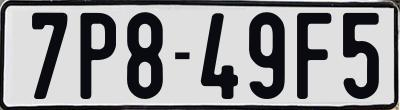4: (198, 10, 239, 100)
5: (340, 11, 377, 101)
7: (32, 12, 70, 100)
8: (124, 10, 164, 99)
9: (249, 9, 286, 96)
F: (297, 11, 331, 99)
P: (80, 10, 117, 100)
